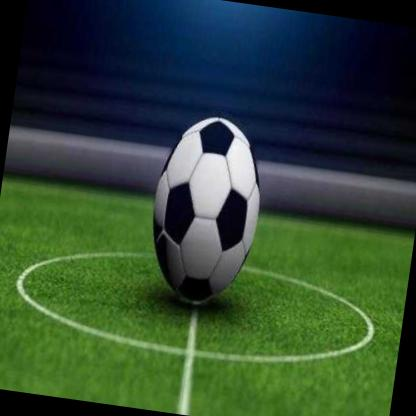ball: (140, 108, 272, 308)
